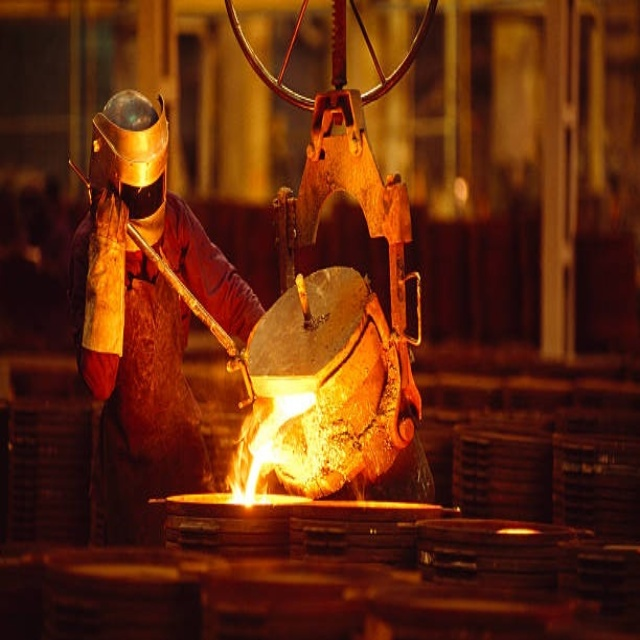Guantes: (79, 171, 130, 361)
